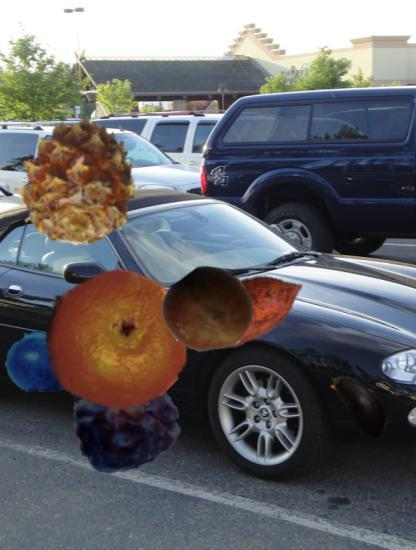Clementine: (40, 265, 188, 413)
Dates: (70, 363, 178, 471)
Eggplant: (324, 364, 402, 442)
Huckleberry: (5, 324, 79, 398)
Nut: (185, 249, 309, 373), (165, 267, 252, 354)
Pineapple: (12, 115, 143, 246)
